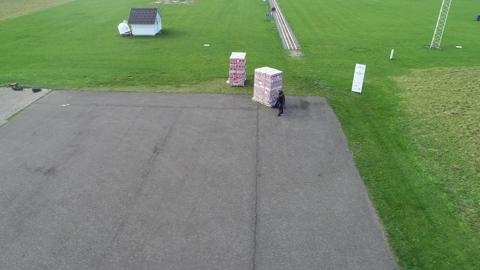RockwoolPallet: (228, 51, 247, 87)
